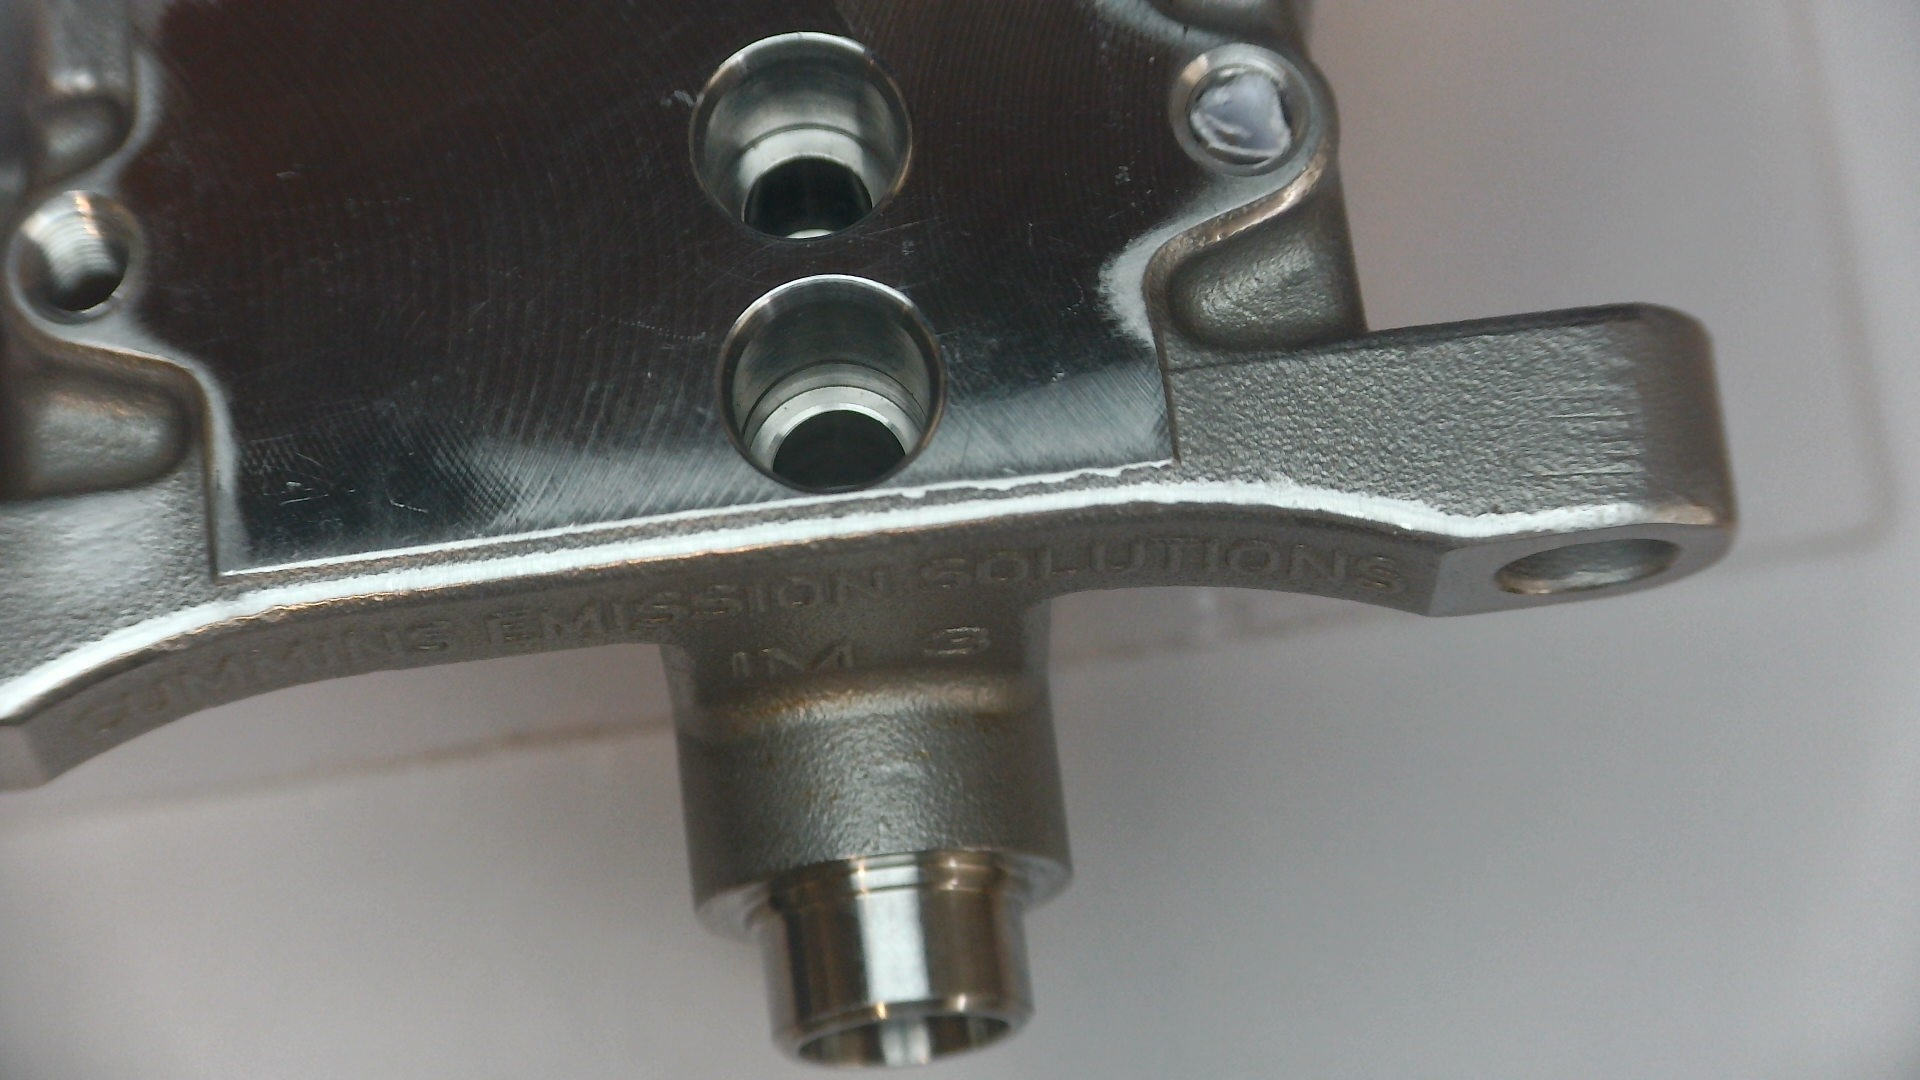thread_absence: (709, 269, 953, 498), (684, 29, 914, 251), (1164, 40, 1321, 185)
thread_presence: (20, 207, 128, 305)
